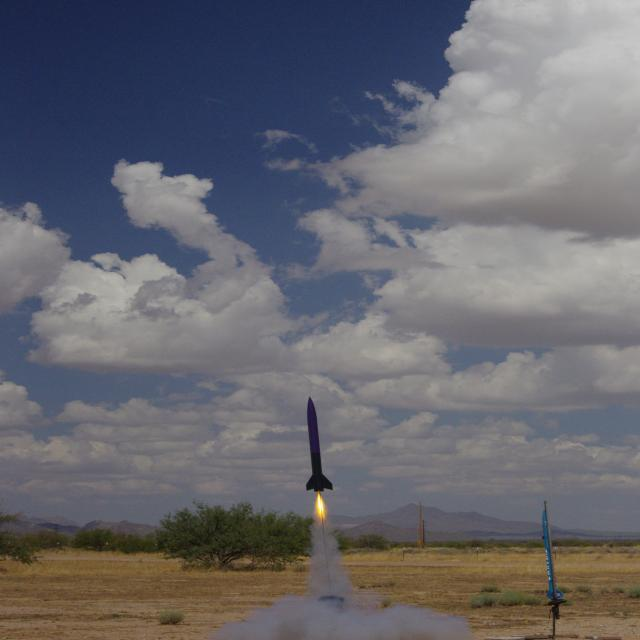Rocket: (306, 396, 334, 492), (542, 510, 564, 600)
